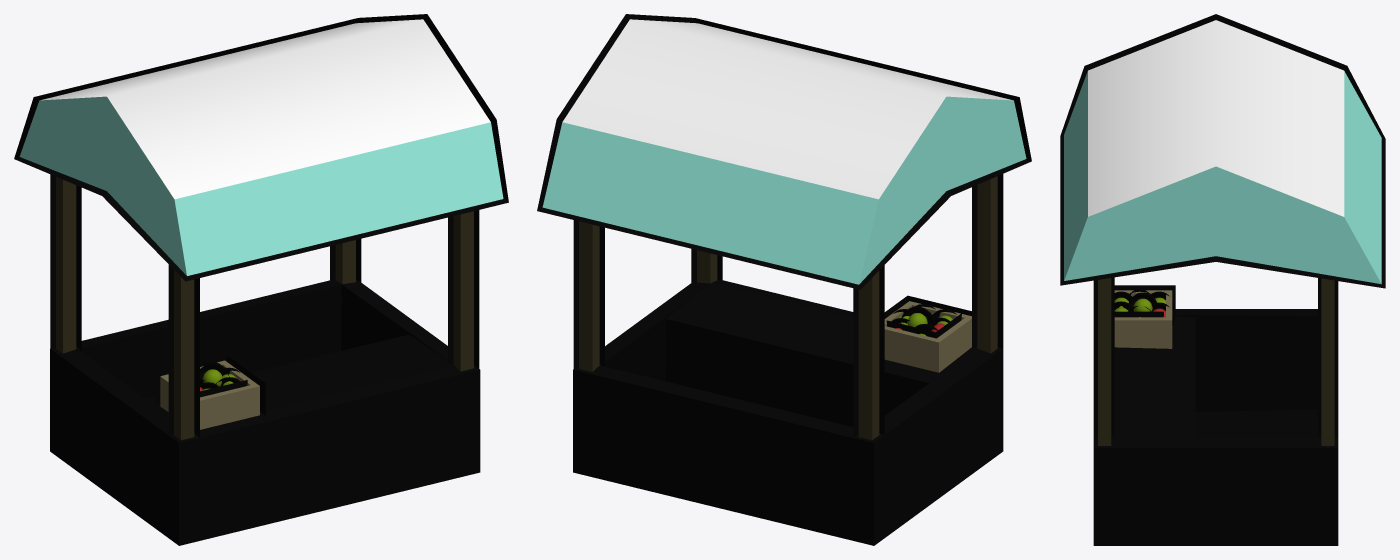
Rendered from Stall 2.FBX.
The picture shows the model from 3 angles, left to right: view 1: azimuth 30°, elevation 25°; view 2: azimuth 150°, elevation 25°; view 3: azimuth 270°, elevation 25°; orthographic projection. The views are drawn at different scales.
Visible parts, largest first — view 1: Stand 2; view 2: Stand 2; view 3: Stand 2.
Boxes of the visible parts, x1,y1,x2,y2 form: Stand 2: (14,14,508,545); Stand 2: (537,14,1031,545); Stand 2: (1060,14,1385,545).
Size of the model in its own units: 29.62 by 35.47 by 26.99.
